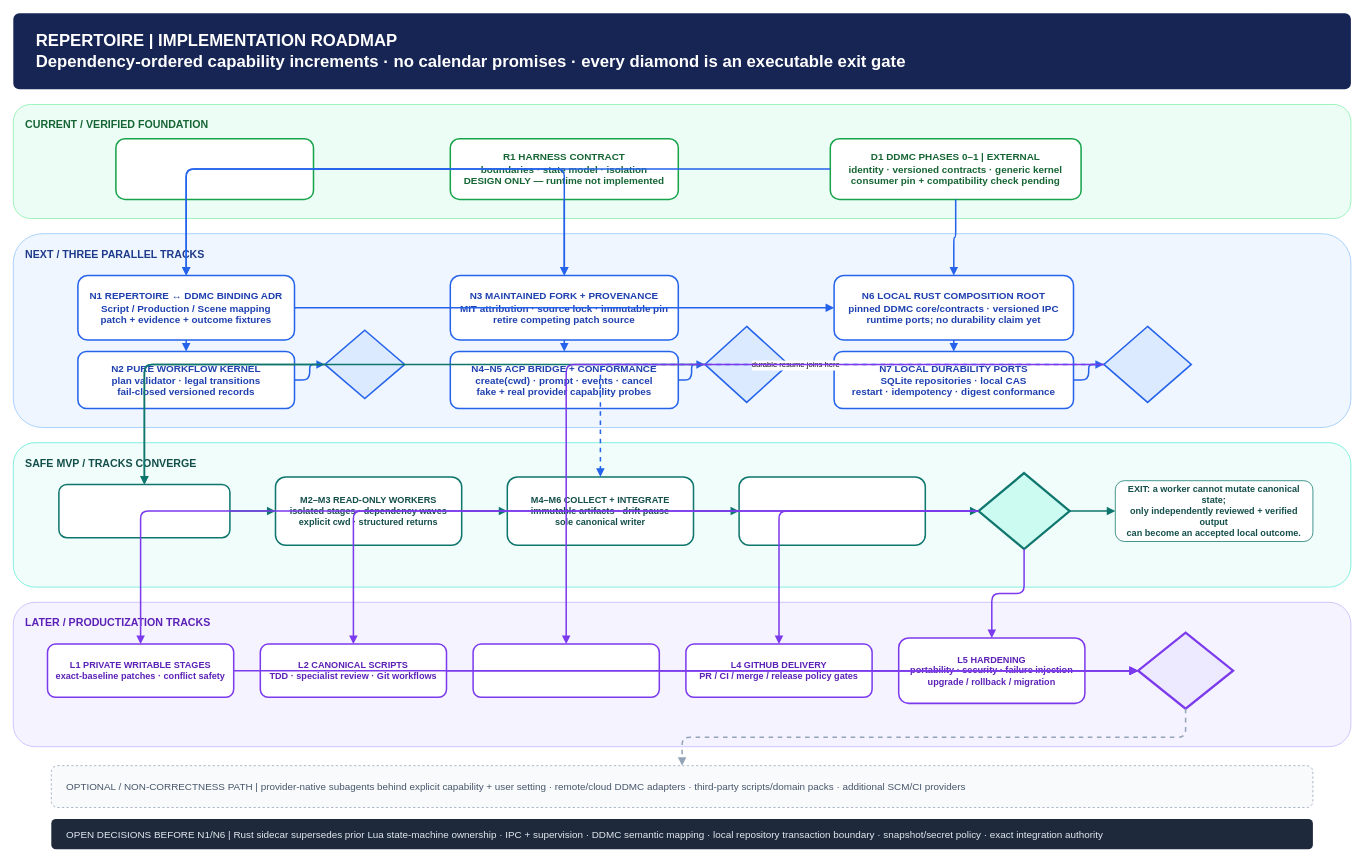
Some shapes in this 1364 by 862 pixel diagram are drawn without their labels. Each missing label, with the centre of its shape:
"G1 KERNEL" goes at (x=364, y=364).
"G2 PORTABLE SESSIONS" goes at (x=746, y=364).
"G3 LOCAL DURABILITY" goes at (x=1147, y=364).
"G4 SAFE MVP" goes at (x=1023, y=511).
"G5 REPERTOIRE 1.0" goes at (x=1185, y=670).
"L3 DURABLE PRODUCT UX resume / cancel · dashboard · history" goes at (x=566, y=670).
"M1 IMMUTABLE BASELINE dirty state + modes + links + identity" goes at (x=144, y=510).
"M7 REVIEW + VERIFY fresh adversarial review repository-wide deterministic checks" goes at (x=832, y=511).
"R0 ISOLATED NEOVIM DISTRO install · UI · pinned plugins headless/runtime checks" goes at (x=214, y=169).
